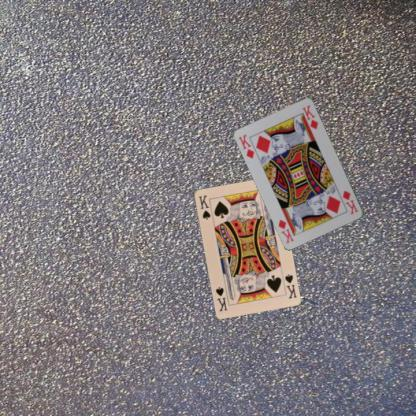Kd: (236, 132, 256, 160), (340, 188, 360, 215)
Ks: (282, 271, 298, 299), (196, 192, 211, 221)
